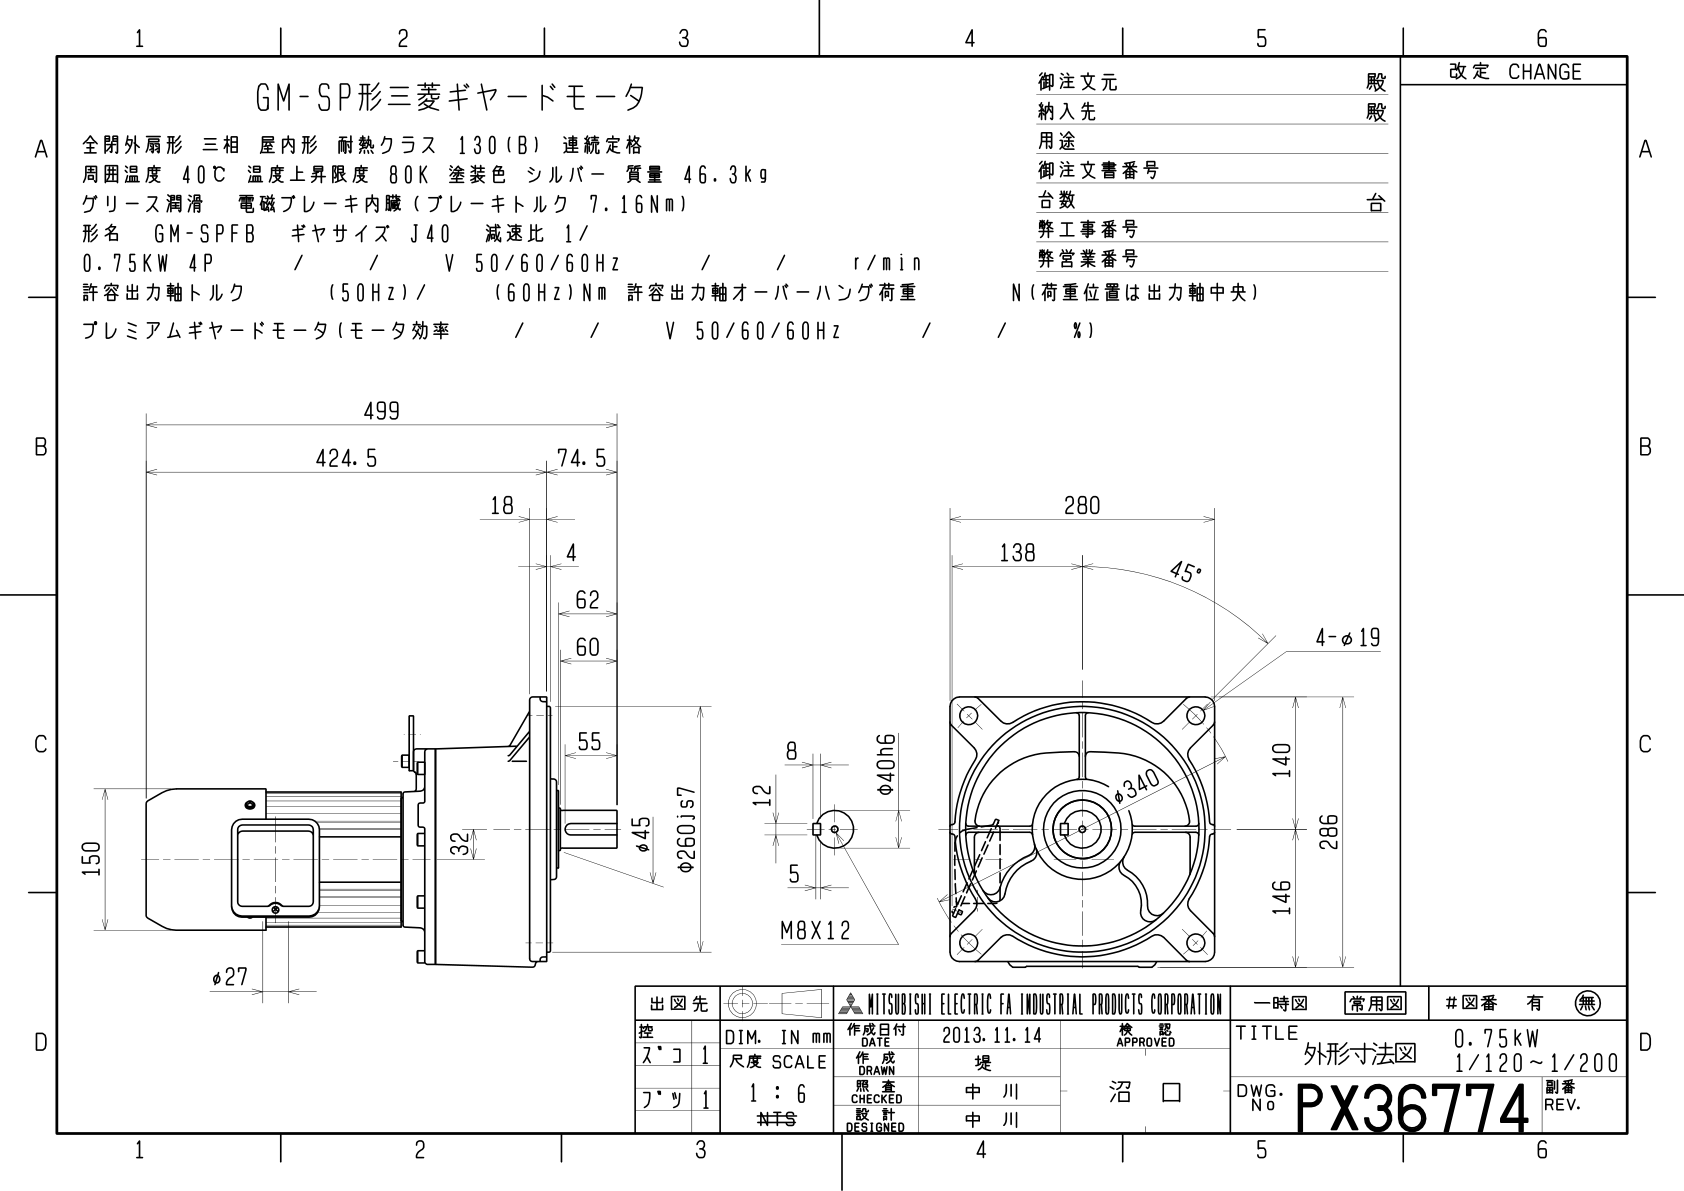GM_SP_屋内_三相_フランジ: (67, 384, 1386, 980)
